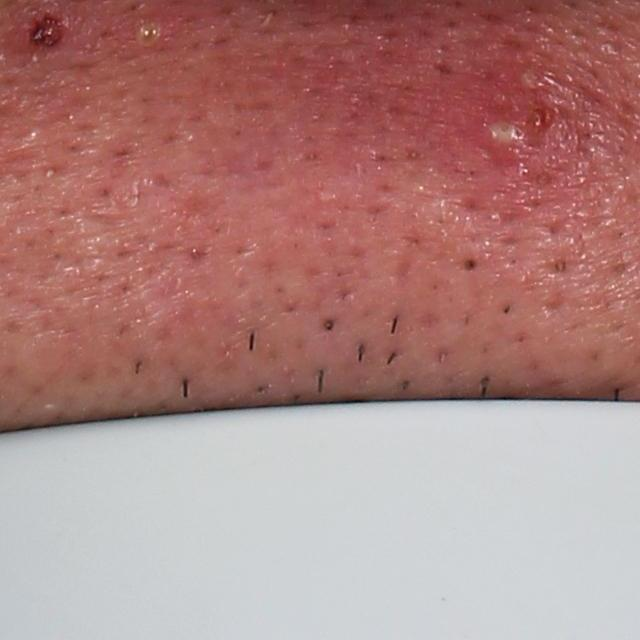pustule: (476, 107, 539, 168), (517, 62, 545, 94)
